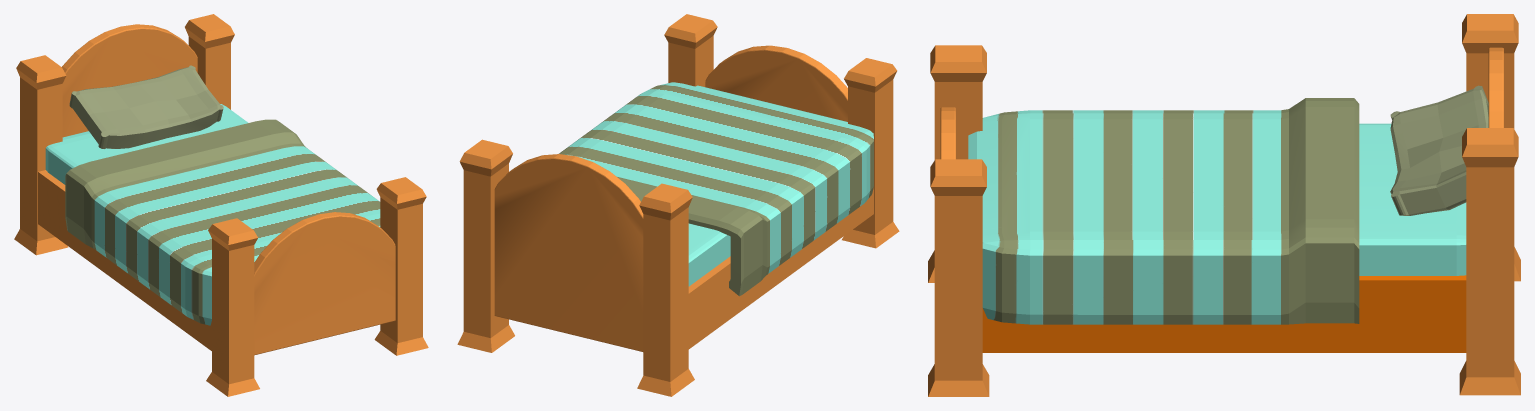
Rendered from yatakk.fbx.
The picture shows the model from 3 angles, left to right: view 1: azimuth 30°, elevation 25°; view 2: azimuth 150°, elevation 25°; view 3: azimuth 270°, elevation 25°; orthographic projection. The views are drawn at different scales.
Parts seen in each view (by area): view 1: Cube.003; view 2: Cube.003; view 3: Cube.003.
Part boxes in pixels (x1=…): Cube.003: x1=14, y1=14, x2=428, y2=396; Cube.003: x1=457, y1=14, x2=899, y2=396; Cube.003: x1=928, y1=14, x2=1520, y2=396.
Bounding box in the file's own units: 244 × 421 × 211.
